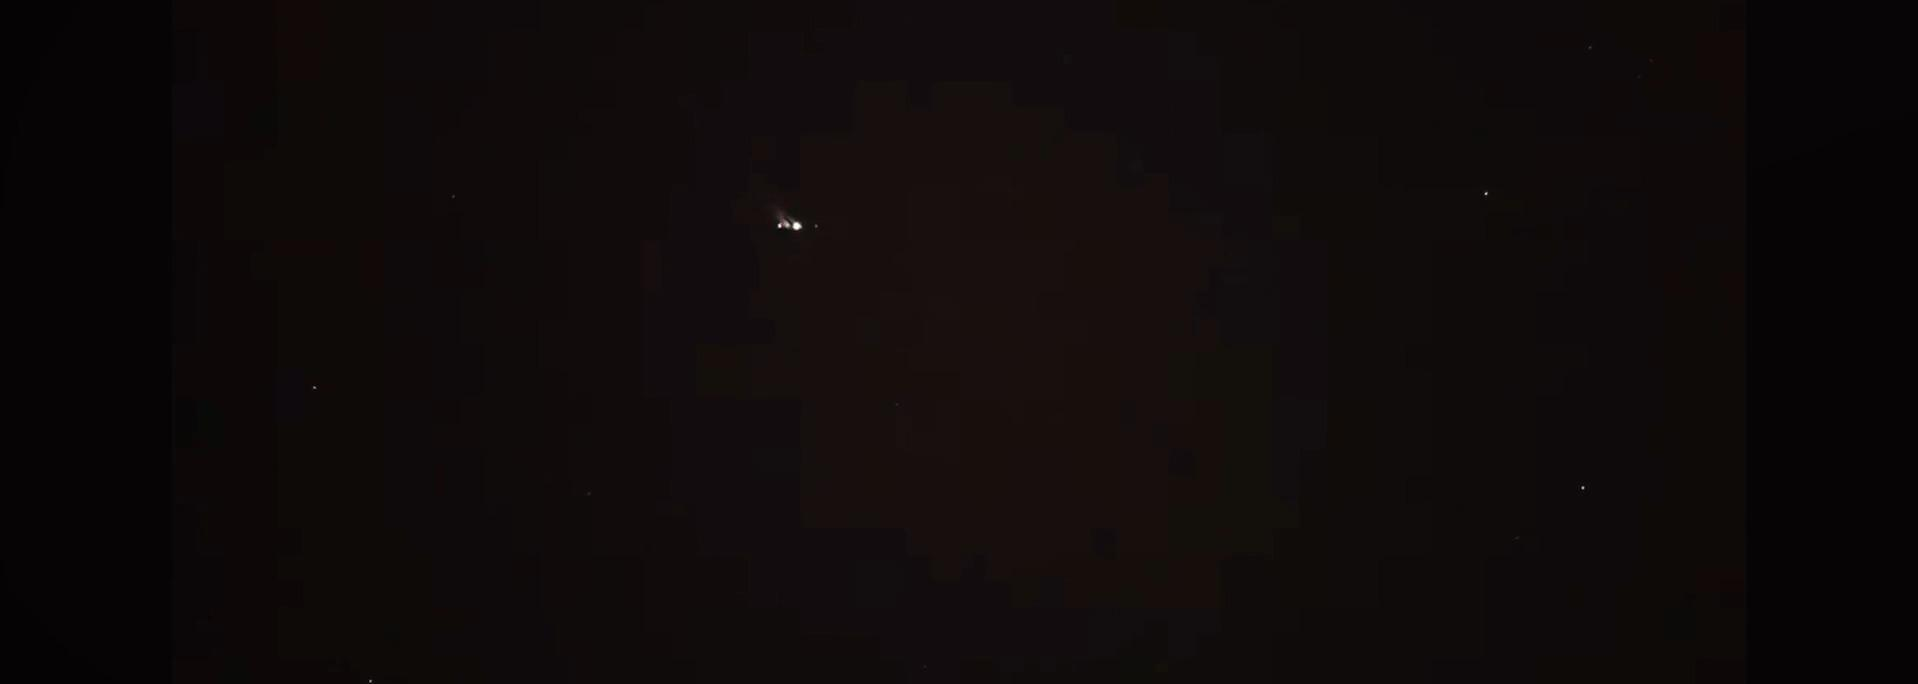Plane: (736, 196, 843, 245)
